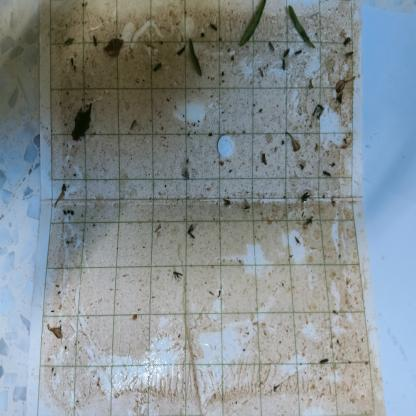prays_oleae: (186, 218, 200, 249), (179, 165, 200, 185), (302, 212, 318, 236), (150, 56, 164, 80), (206, 14, 219, 37), (301, 185, 313, 207), (221, 193, 232, 214), (268, 36, 277, 61), (243, 198, 253, 220), (279, 54, 287, 81), (294, 42, 304, 61), (175, 260, 182, 287), (130, 119, 140, 133), (282, 44, 290, 60), (342, 37, 353, 46)
